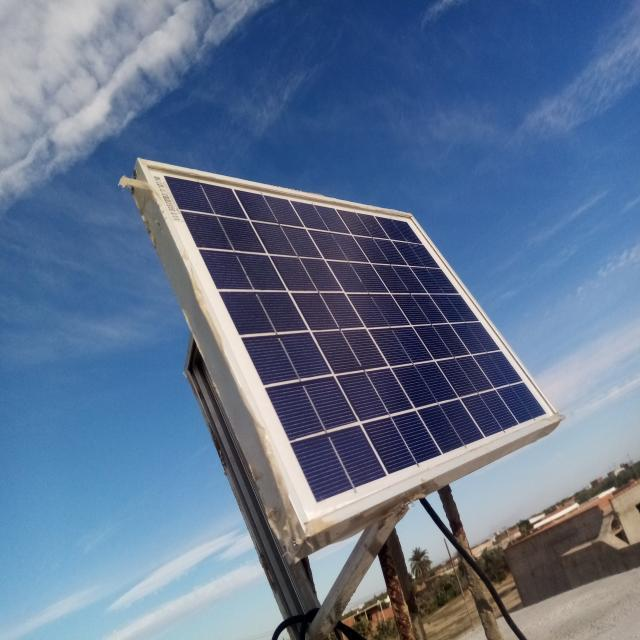no faulty: (141, 158, 561, 531)
